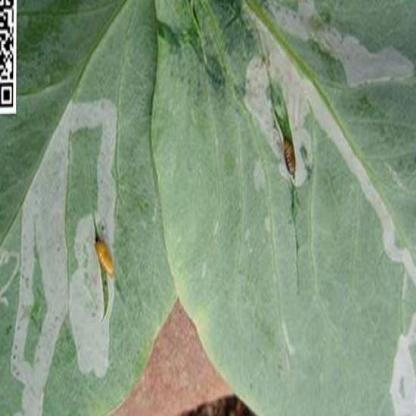whorl-maggot: (86, 233, 122, 286), (280, 130, 302, 184)
